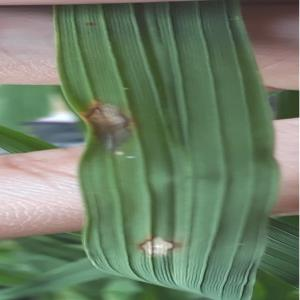1 RiceBlast: (77, 81, 142, 164), (120, 219, 184, 264)
